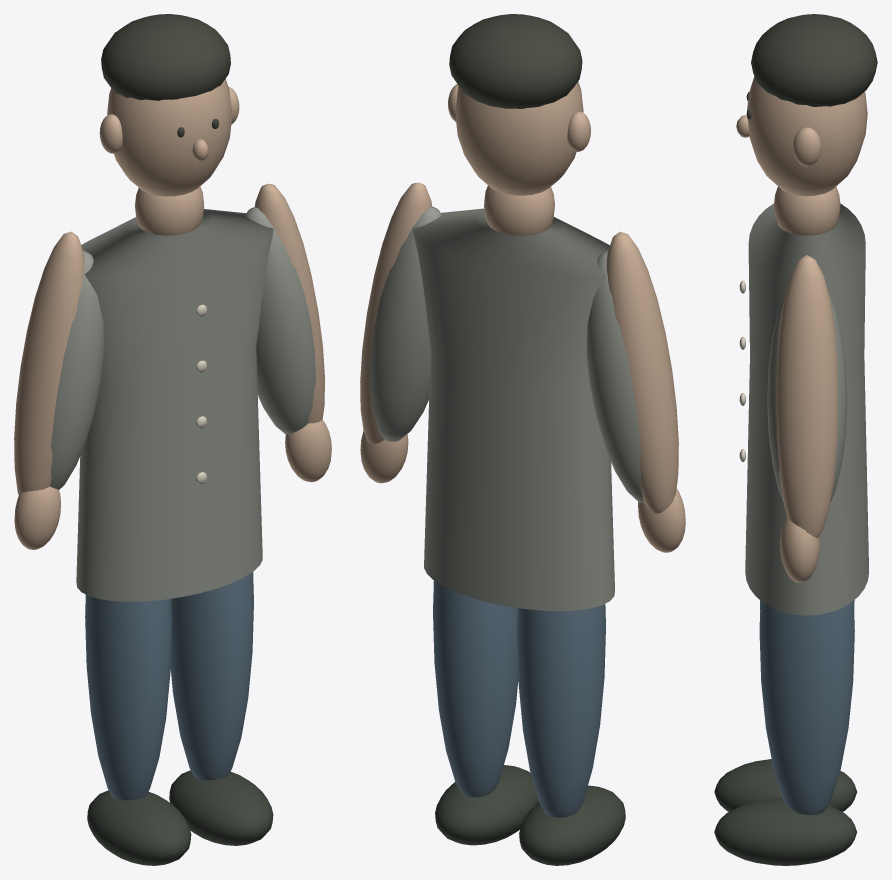
Rendered from look-6.glb.
The picture shows the model from 3 angles, left to right: view 1: azimuth 30°, elevation 25°; view 2: azimuth 150°, elevation 25°; view 3: azimuth 270°, elevation 25°; orthographic projection. The views are drawn at different scales.
Bounding box in the file's own units: 0.7643 × 1.89 × 0.343.
